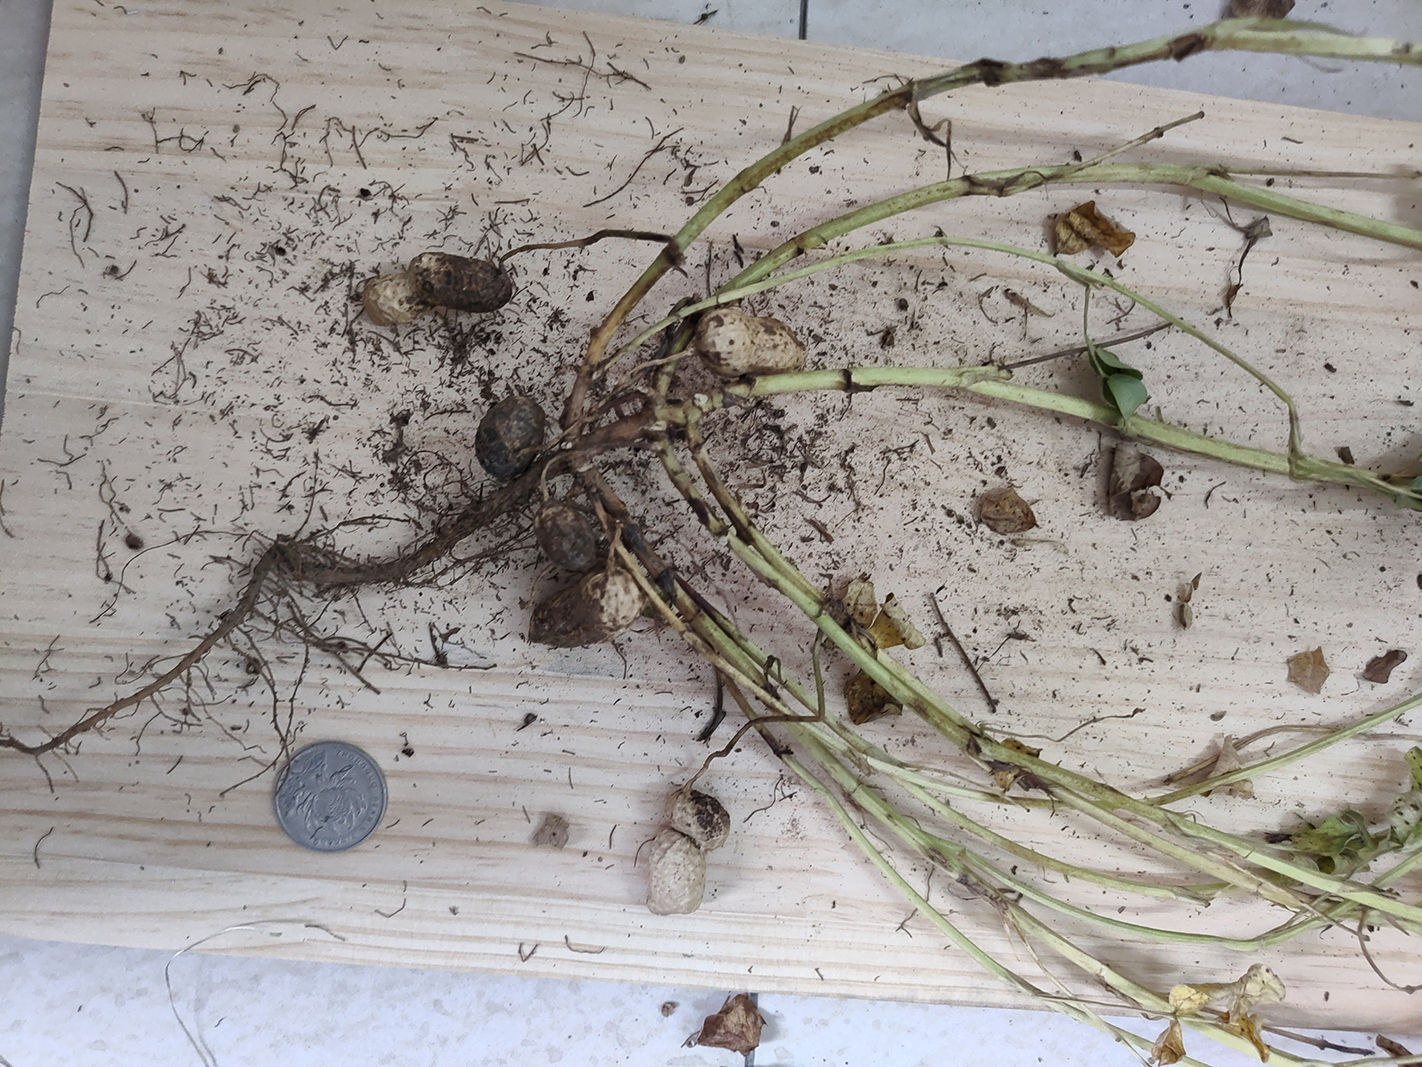h: (645, 791, 729, 917), (699, 304, 808, 378)
l: (356, 252, 512, 323), (529, 570, 647, 646), (475, 396, 546, 480), (539, 505, 595, 570)
